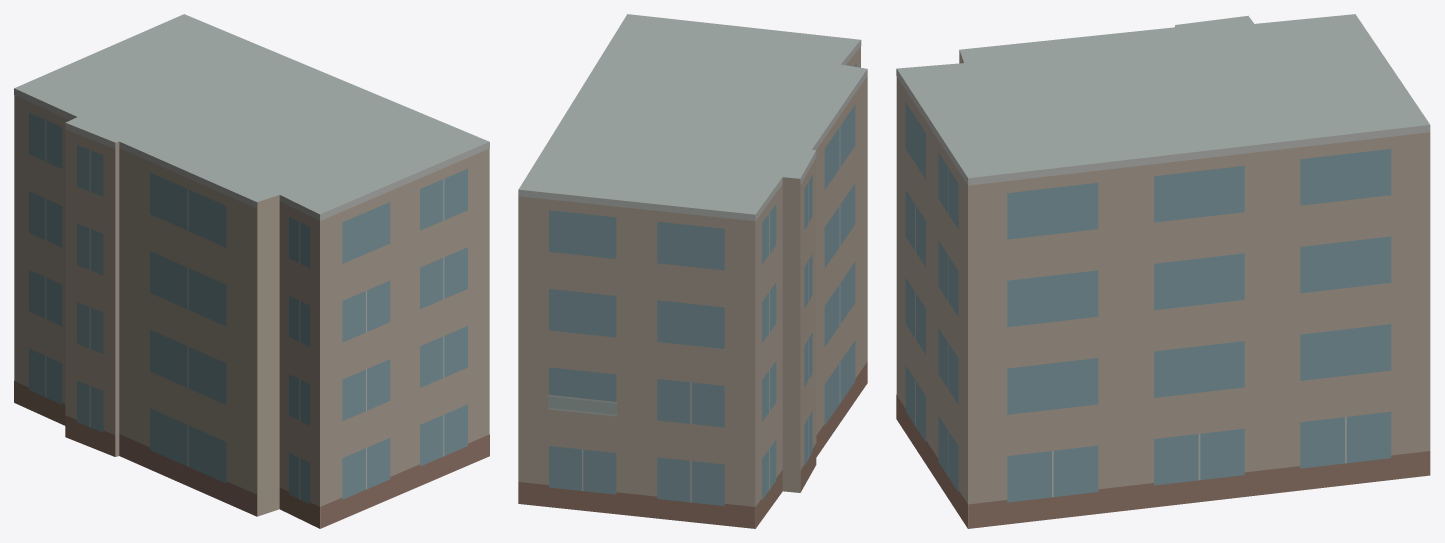
Rendered from survey-upis-32498071.glb.
3 views of the same model, side by side, from view 1: azimuth 30°, elevation 25°; view 2: azimuth 150°, elevation 25°; view 3: azimuth 270°, elevation 25° (orthographic). The views are drawn at different scales.
Visible parts, largest first — view 1: survey-upis-32498071.tmp; view 2: survey-upis-32498071.tmp; view 3: survey-upis-32498071.tmp.
Part boxes in pixels (left/top/right/bottom): survey-upis-32498071.tmp: left=14, top=14, right=489, bottom=528; survey-upis-32498071.tmp: left=518, top=14, right=867, bottom=528; survey-upis-32498071.tmp: left=896, top=14, right=1430, bottom=528.
Bounding box in the file's own units: 11.67 × 11.6 × 16.02.
